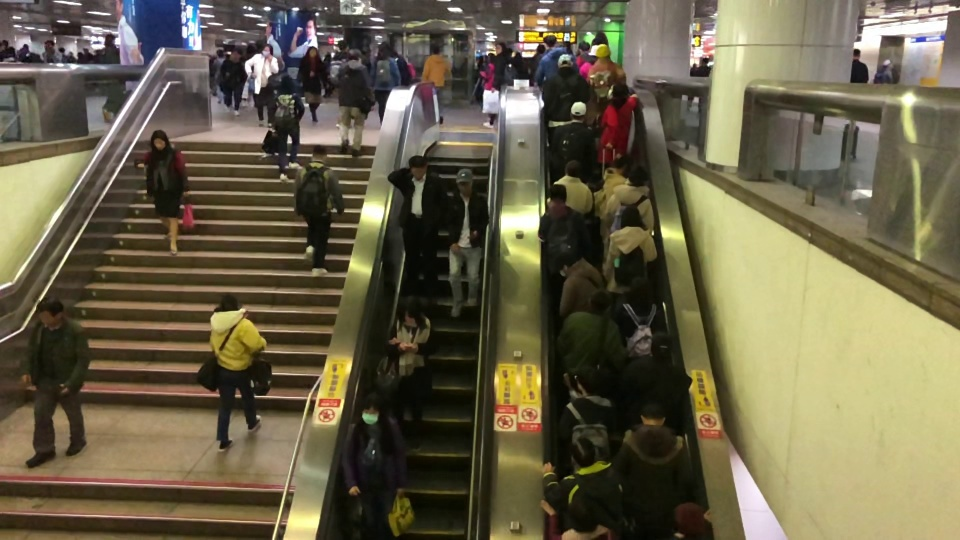person_head: (567, 485, 601, 532), (671, 501, 705, 540), (565, 365, 600, 401), (35, 296, 65, 329), (553, 243, 583, 276), (570, 437, 596, 470), (360, 393, 386, 425), (397, 295, 423, 327), (648, 329, 672, 363), (638, 402, 667, 429), (628, 276, 653, 306), (587, 288, 612, 316), (604, 82, 628, 109), (618, 205, 643, 230), (407, 154, 428, 181), (149, 127, 170, 152), (554, 53, 575, 77), (625, 166, 649, 187), (455, 168, 474, 194), (612, 154, 634, 176), (567, 100, 587, 124), (276, 73, 297, 95), (217, 293, 240, 313), (562, 159, 583, 179), (548, 183, 567, 205), (308, 143, 329, 162), (375, 41, 393, 60), (594, 44, 611, 64), (345, 46, 364, 63), (585, 44, 600, 64), (542, 33, 557, 48), (102, 33, 116, 48), (228, 48, 243, 62), (260, 43, 274, 58), (577, 40, 591, 54), (561, 39, 573, 54), (337, 39, 350, 52), (494, 41, 506, 55), (42, 40, 55, 52), (851, 48, 861, 61), (880, 59, 891, 70), (307, 45, 317, 57), (430, 43, 440, 55), (535, 44, 545, 54), (0, 39, 9, 50), (505, 47, 514, 58), (323, 51, 332, 61), (487, 53, 495, 64), (21, 43, 29, 53), (390, 48, 398, 58), (215, 49, 223, 58), (514, 51, 522, 60), (701, 57, 709, 66), (57, 47, 65, 55), (82, 47, 90, 54), (209, 54, 216, 62), (76, 52, 84, 58), (95, 49, 102, 55), (67, 51, 74, 57), (691, 63, 697, 68)
person_vbox: (20, 296, 92, 469), (607, 401, 694, 540), (340, 392, 408, 540), (207, 293, 268, 453), (386, 154, 448, 308), (387, 295, 439, 454), (613, 328, 693, 427), (536, 183, 594, 319), (541, 437, 624, 529), (292, 142, 346, 278), (444, 168, 490, 319), (555, 288, 629, 378), (541, 53, 590, 186), (143, 127, 191, 257), (557, 365, 613, 476), (602, 205, 658, 298), (612, 276, 668, 359), (547, 100, 598, 190), (336, 46, 376, 157), (539, 485, 619, 540), (553, 243, 610, 320), (268, 72, 305, 182), (595, 82, 640, 166), (604, 166, 655, 236), (243, 43, 279, 127), (481, 40, 513, 129), (369, 41, 402, 127), (592, 154, 634, 219), (296, 45, 328, 123), (533, 33, 579, 87), (585, 44, 626, 104), (551, 159, 593, 215), (421, 43, 447, 124), (219, 48, 248, 117), (98, 33, 120, 121), (478, 53, 496, 122), (326, 39, 350, 89), (695, 57, 711, 113), (390, 48, 410, 87), (848, 48, 869, 84), (578, 44, 600, 78), (213, 49, 226, 104), (320, 51, 332, 98), (872, 59, 895, 83), (40, 40, 63, 63), (530, 44, 545, 79), (574, 40, 591, 67), (687, 63, 697, 108), (505, 46, 518, 80), (514, 51, 529, 80), (209, 54, 218, 96), (0, 39, 16, 62), (17, 43, 33, 63), (82, 46, 94, 63), (57, 47, 69, 63), (92, 49, 104, 64), (76, 51, 89, 64), (65, 51, 77, 64)
